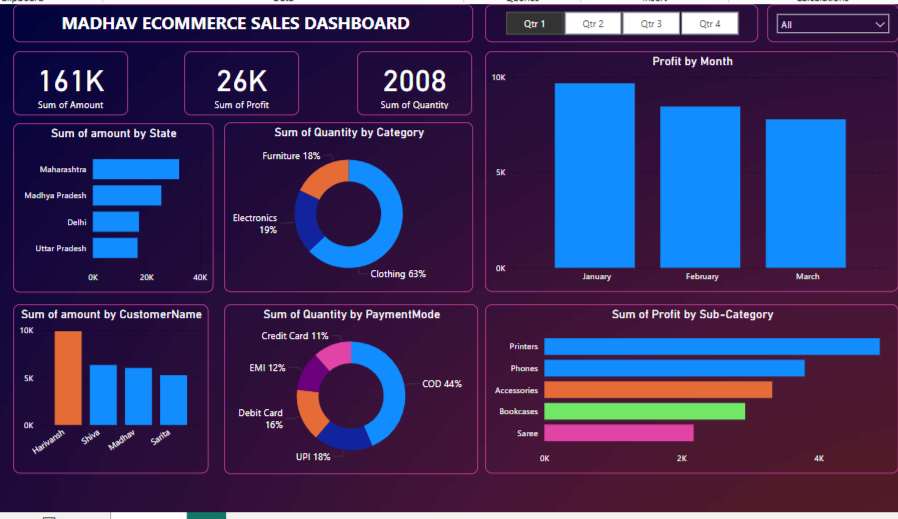

The dashboard page shown, as its layout file describes it:
{"tool":"powerbi","page":{"name":"Page 1","canvas":[1280,720],"ordinal":0},"visuals":[{"type":"textbox","box":[23.5,0,651.8,53.8],"z":0},{"type":"columnChart","title":" Profit by Month","fields":{"Category":["Orders.Order Date.Variation.Date Hierarchy.Month"],"Y":["Details.Profit"]},"box":[693.8,67.2,586.2,341],"z":1000},{"type":"barChart","fields":{"Category":["Details.Sub-Category"],"Y":["Details.Profit"]},"box":[693.8,425,586.2,240.2],"z":2000},{"type":"donutChart","fields":{"Category":["Details.Category"],"Y":["Details.Quantity"]},"box":[323.1,167.2,352.9,240.9],"z":3000},{"type":"donutChart","fields":{"Category":["Details.PaymentMode"],"Y":["Details.Quantity"]},"box":[323.1,425.2,360,240.9],"z":4000},{"type":"card","fields":{"Values":["Details.Amount"]},"box":[23.5,67.2,162.9,90.7],"z":5000},{"type":"card","fields":{"Values":["Details.Profit"]},"box":[267.1,67.2,162.9,90.7],"z":6000},{"type":"card","fields":{"Values":["Details.Quantity"]},"box":[512.3,67.2,162.9,90.7],"z":7000},{"type":"barChart","title":"Sum of amount by State","fields":{"Category":["Orders.State"],"Y":["Details.Amount"]},"box":[23.5,168,283.9,240.2],"z":8000},{"type":"columnChart","title":"Sum of amount by CustomerName","fields":{"Y":["Details.Amount"],"Category":["Orders.CustomerName"]},"box":[23.5,425,277.2,240.2],"z":9000},{"type":"slicer","fields":{"Values":["Orders.Order Date.Variation.Date Hierarchy.Quarter"]},"box":[693.1,0,386.9,53.9],"z":10000},{"type":"slicer","fields":{"Values":["Orders.State"]},"box":[1092.8,0,187.1,53.9],"z":11000}]}

Visuals, with their boxes on the page's 1280x720 design canvas (x1, y1, x2, y2). These are canvas units, not pixel positions in the 898x519 screenshot, which may show the page scaled, cropped or inside an application window:
textbox: {"x1": 24, "y1": 0, "x2": 675, "y2": 54}
" Profit by Month" columnChart: {"x1": 694, "y1": 67, "x2": 1280, "y2": 408}
barChart - Details.Sub-Category x Details.Profit: {"x1": 694, "y1": 425, "x2": 1280, "y2": 665}
donutChart - Details.Category x Details.Quantity: {"x1": 323, "y1": 167, "x2": 676, "y2": 408}
donutChart - Details.PaymentMode x Details.Quantity: {"x1": 323, "y1": 425, "x2": 683, "y2": 666}
card - Details.Amount: {"x1": 24, "y1": 67, "x2": 186, "y2": 158}
card - Details.Profit: {"x1": 267, "y1": 67, "x2": 430, "y2": 158}
card - Details.Quantity: {"x1": 512, "y1": 67, "x2": 675, "y2": 158}
"Sum of amount by State" barChart: {"x1": 24, "y1": 168, "x2": 307, "y2": 408}
"Sum of amount by CustomerName" columnChart: {"x1": 24, "y1": 425, "x2": 301, "y2": 665}
slicer - Orders.Order Date.Variation.Date Hierarchy.Quarter: {"x1": 693, "y1": 0, "x2": 1080, "y2": 54}
slicer - Orders.State: {"x1": 1093, "y1": 0, "x2": 1280, "y2": 54}
